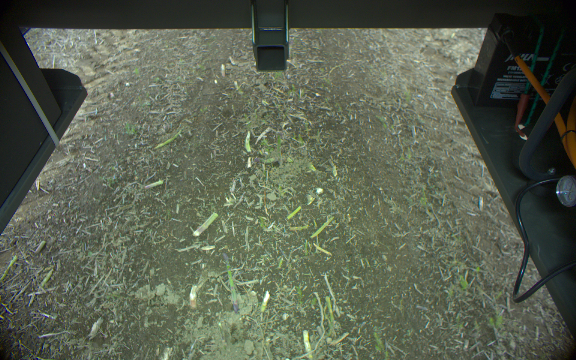aspa: (220, 250, 238, 313), (152, 127, 183, 150), (191, 213, 217, 240), (299, 324, 314, 360), (310, 214, 333, 237), (323, 295, 338, 325), (273, 133, 287, 165), (257, 288, 274, 313), (251, 154, 281, 167), (243, 130, 257, 154), (187, 283, 198, 311), (286, 203, 302, 219), (146, 177, 164, 191)
